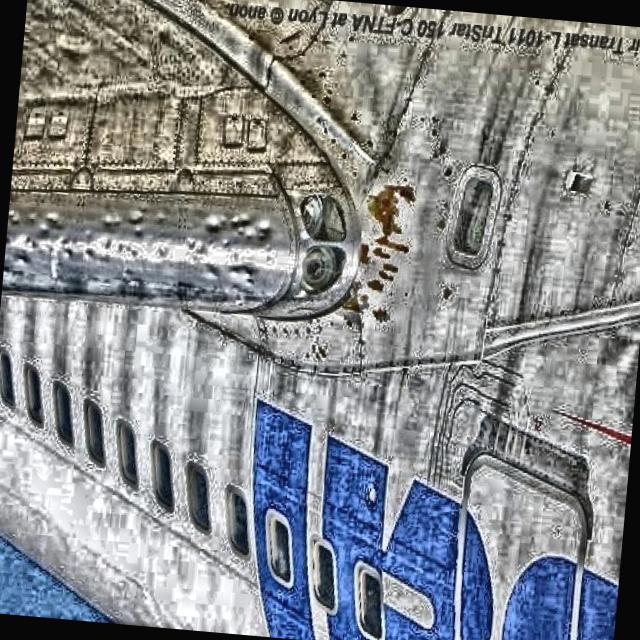dent: (2, 195, 270, 304)
